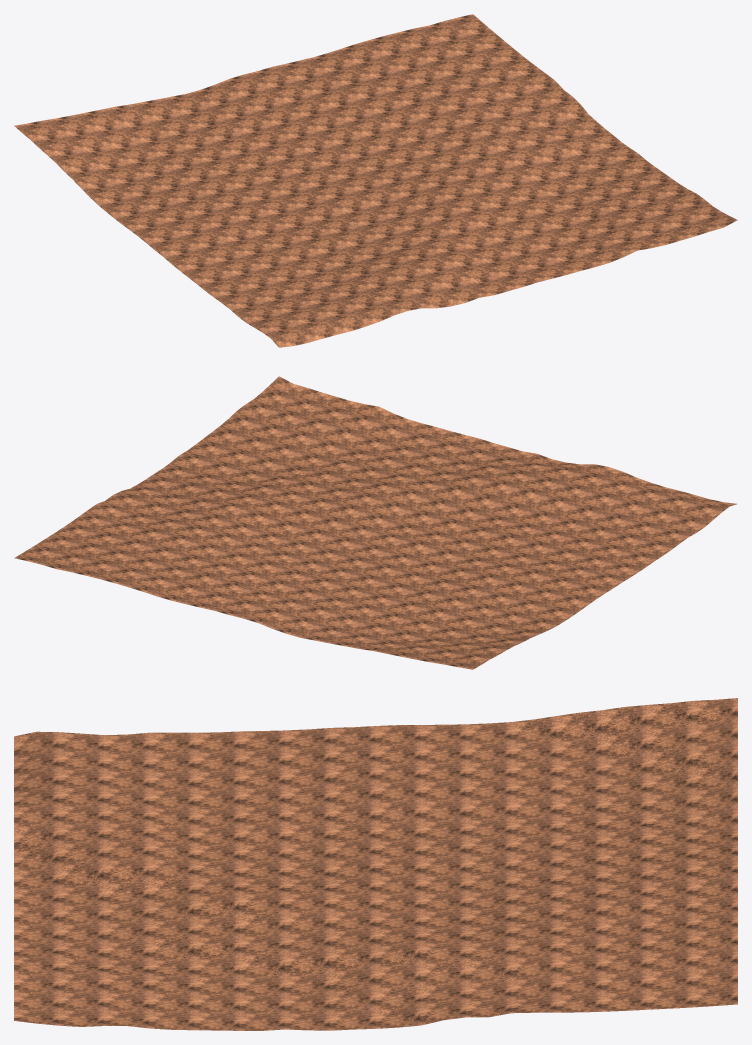
File: terrain_07_19.dae
3 views of the same model, one above another, from view 1: azimuth 30°, elevation 25°; view 2: azimuth 150°, elevation 25°; view 3: azimuth 270°, elevation 25° (orthographic). The views are drawn at different scales.
Visible parts, largest first — view 1: terrain_07_19-node; view 2: terrain_07_19-node; view 3: terrain_07_19-node.
Part boxes in pixels (x1=…): terrain_07_19-node: x1=14, y1=14, x2=737, y2=347; terrain_07_19-node: x1=14, y1=376, x2=736, y2=669; terrain_07_19-node: x1=14, y1=698, x2=737, y2=1030.
Bounding box in the file's own units: 128 × 128 × 8.08.
Materials: 1 (1 with a texture image).
